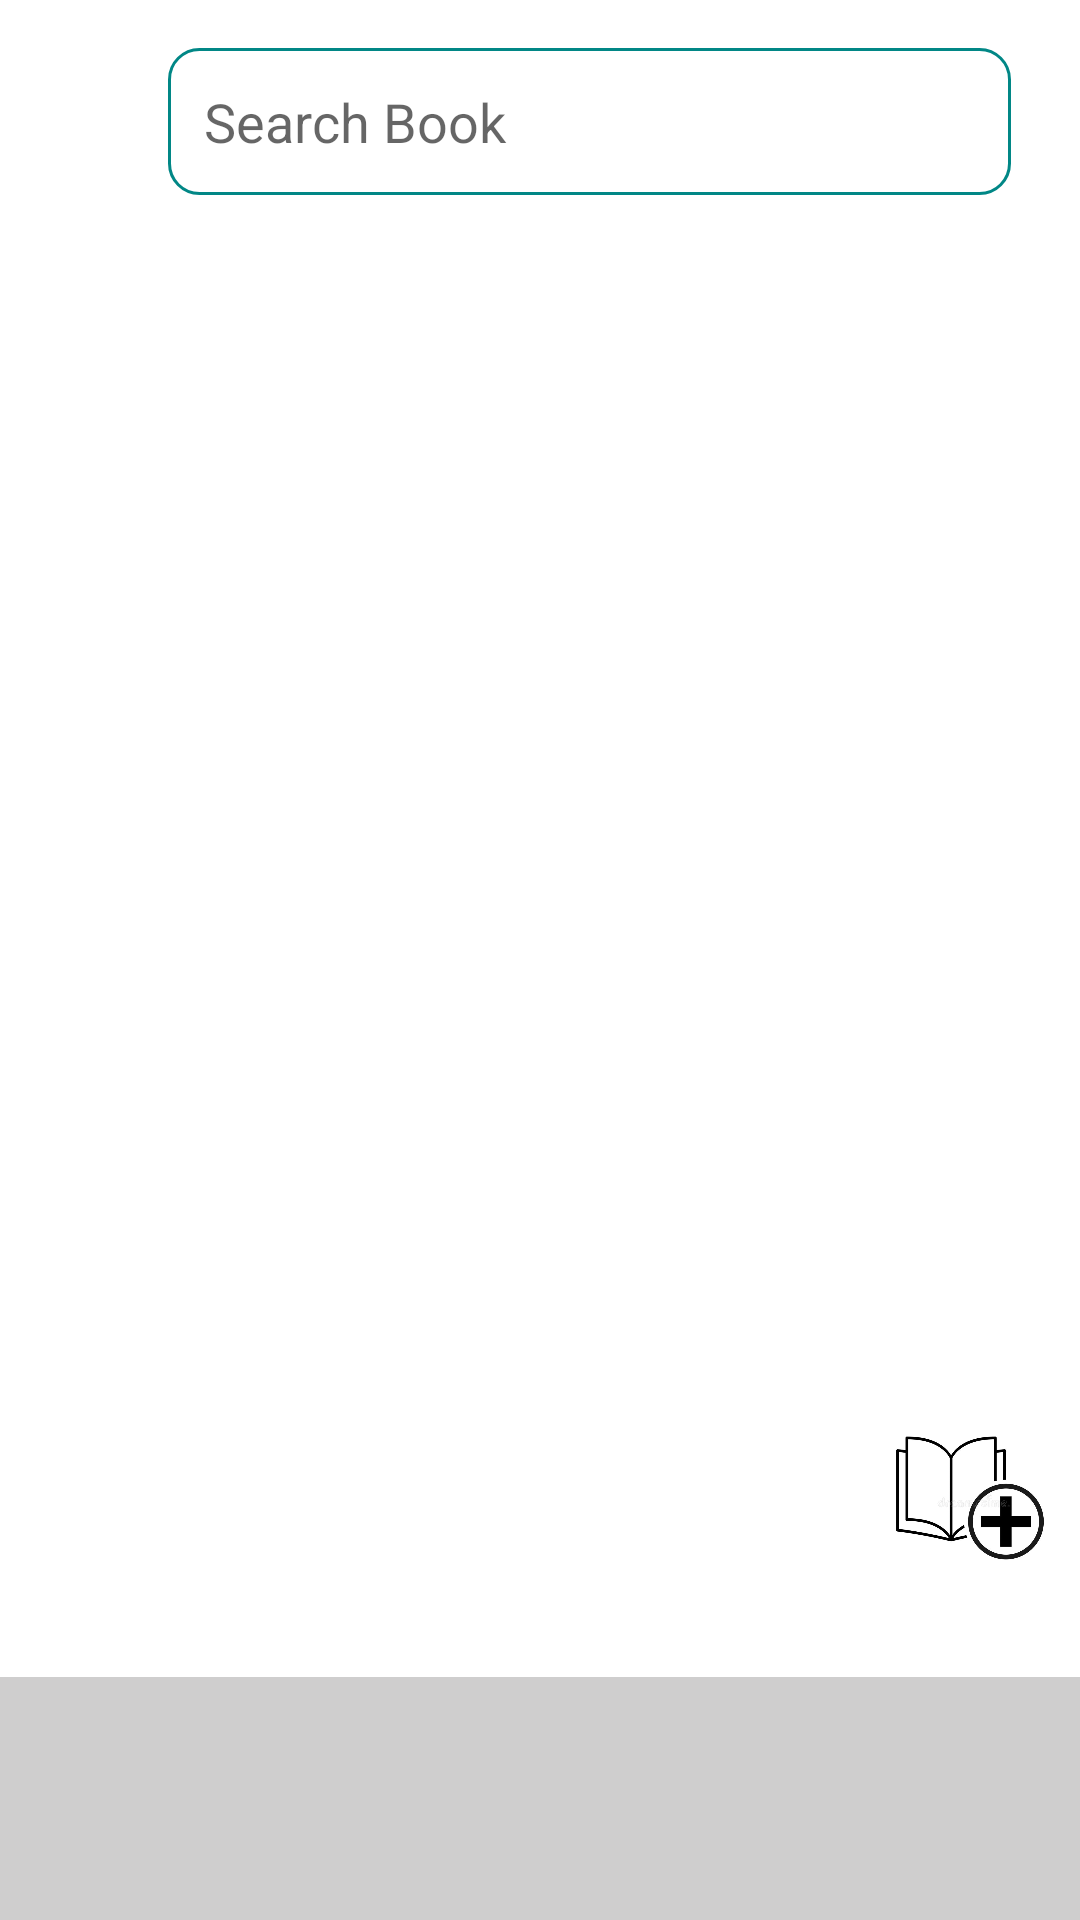

Icons on this 1080w x 1920h Android screen, each with its box as {"x1": x1, "y1": y1, "x2": x2, "y2": y2}:
livro: {"x1": 896, "y1": 1436, "x2": 1044, "y2": 1560}
